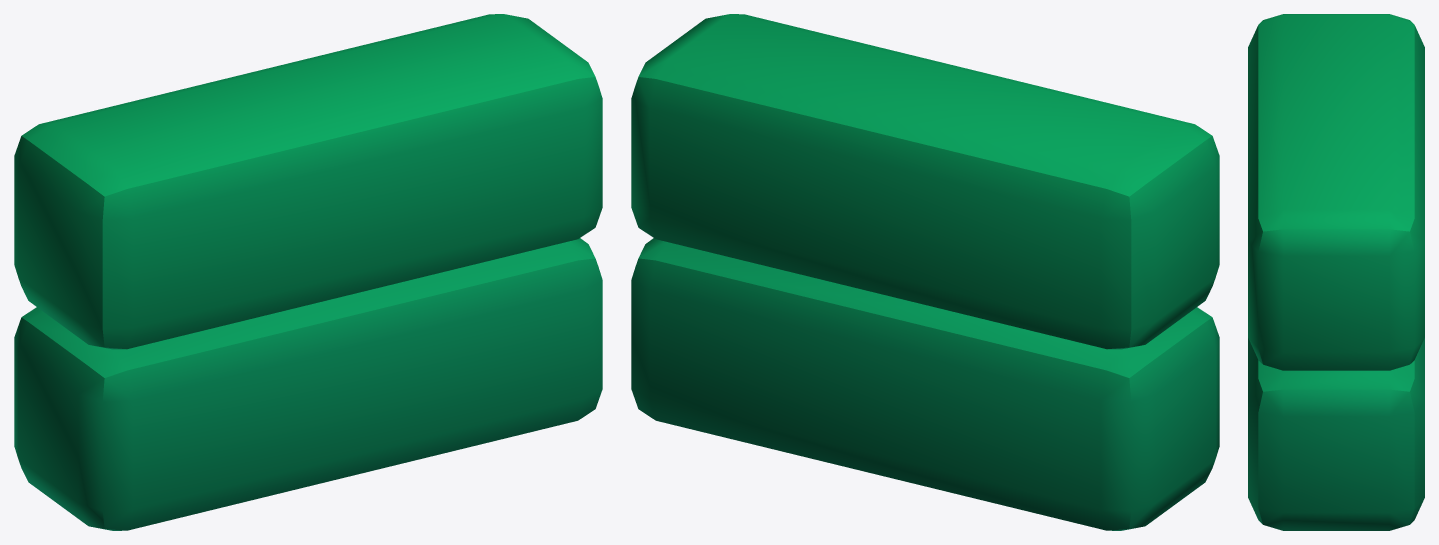
The model's file is barrier_3x1x2_green.glb.
3 views of the same model, side by side, from view 1: azimuth 30°, elevation 25°; view 2: azimuth 150°, elevation 25°; view 3: azimuth 270°, elevation 25° (orthographic). The views are drawn at different scales.
Parts seen in each view (by area): view 1: barrier_3x1x2_green; view 2: barrier_3x1x2_green; view 3: barrier_3x1x2_green.
Boxes of the visible parts, left/top/right/bottom form: barrier_3x1x2_green: left=14, top=14, right=602, bottom=530; barrier_3x1x2_green: left=631, top=14, right=1219, bottom=530; barrier_3x1x2_green: left=1248, top=14, right=1424, bottom=530.
Bounding box in the file's own units: 3 × 2 × 1.
1 material, 1 textured.
